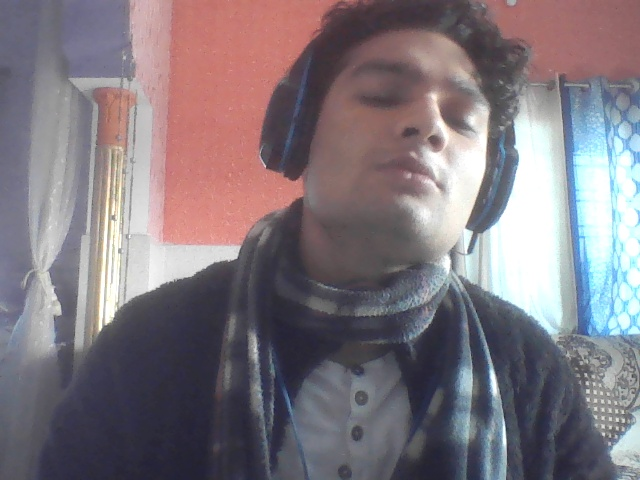real: (301, 0, 488, 265)
